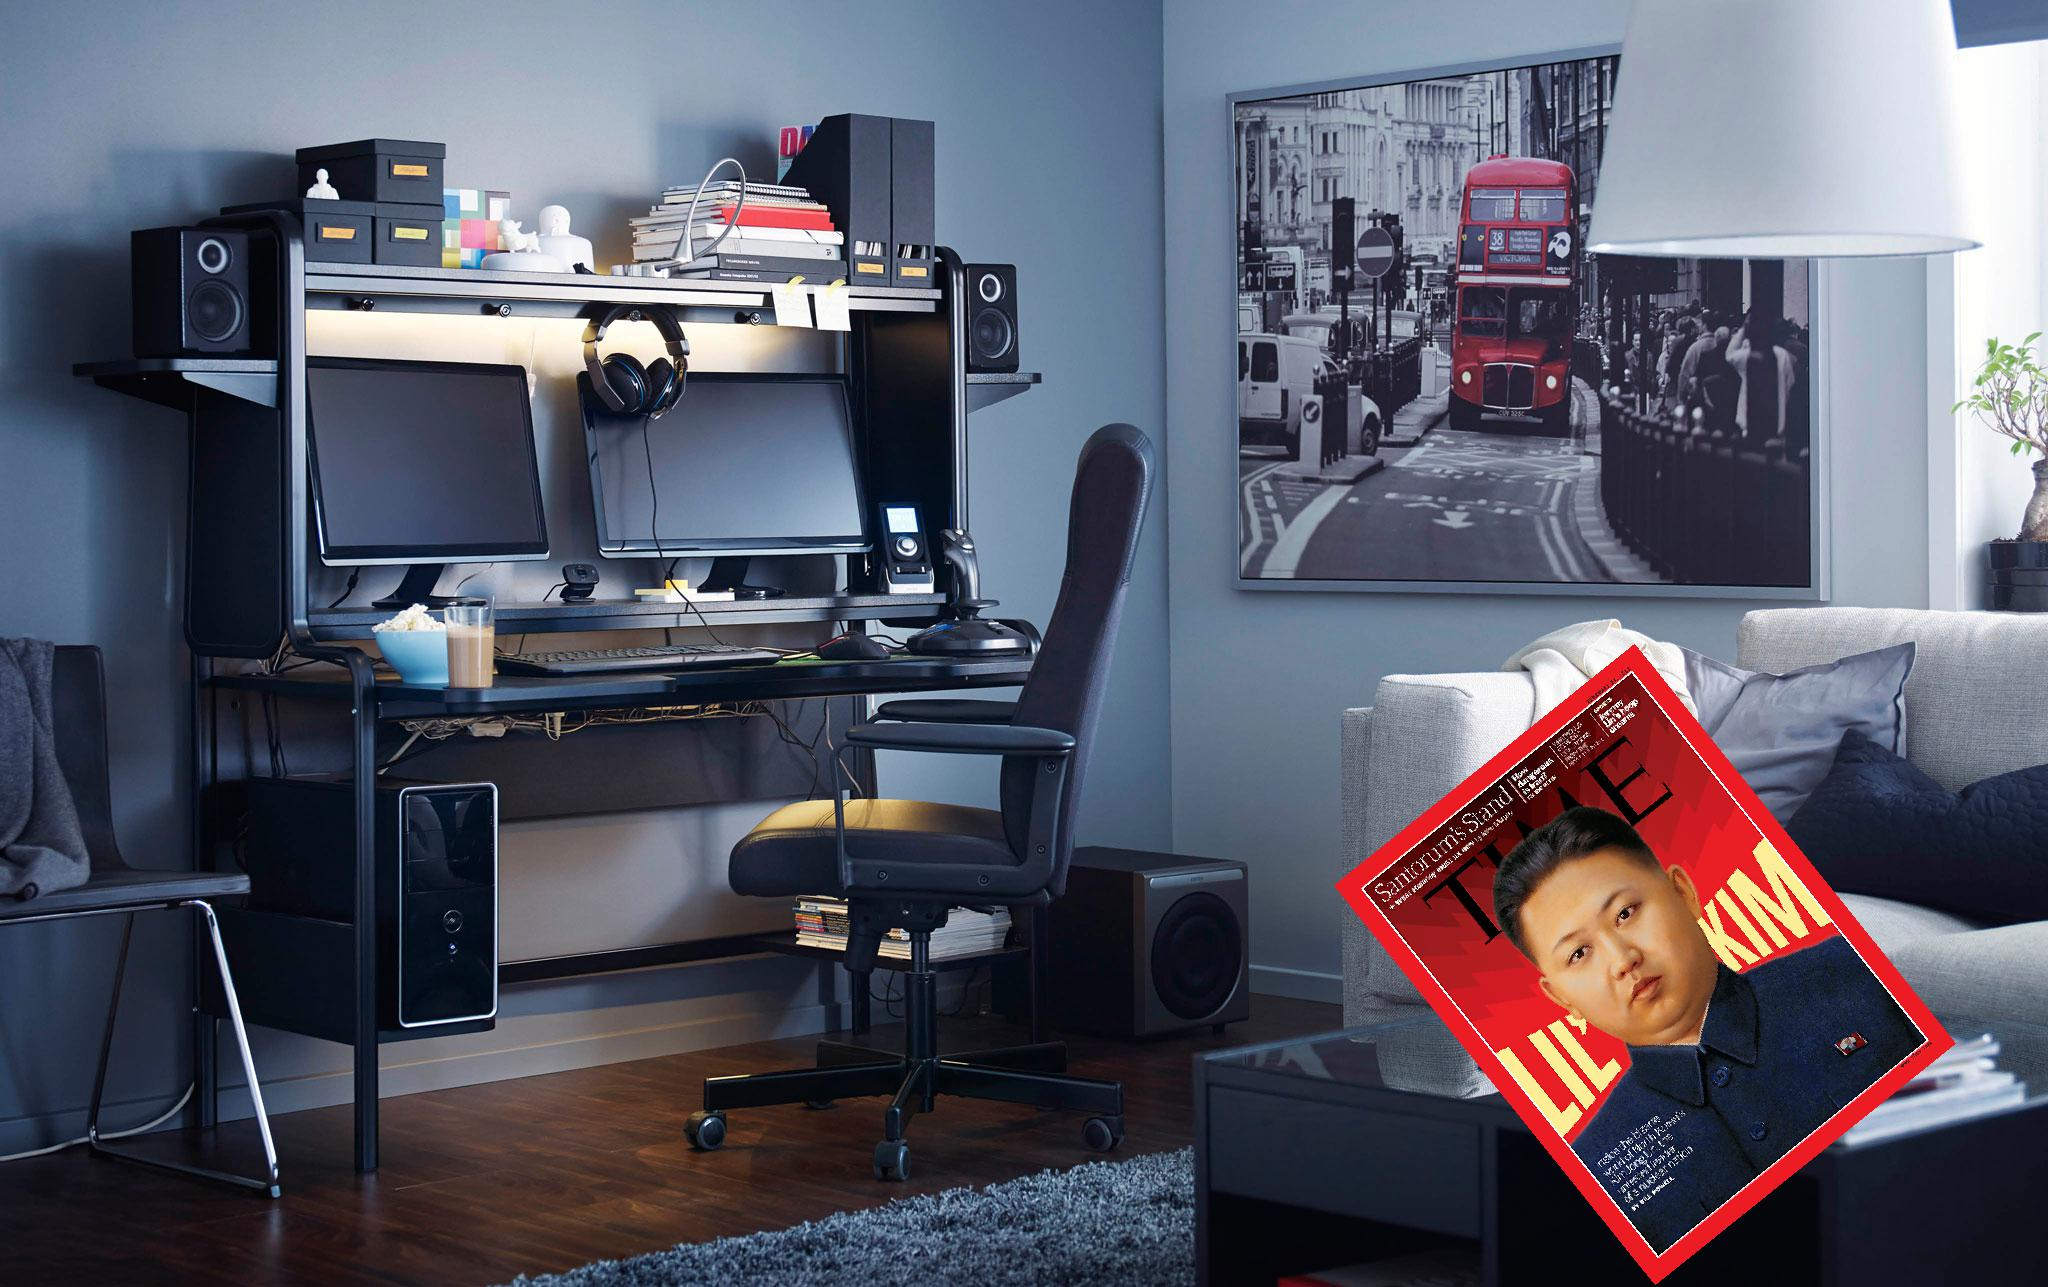times: (1331, 638, 1949, 1287)
